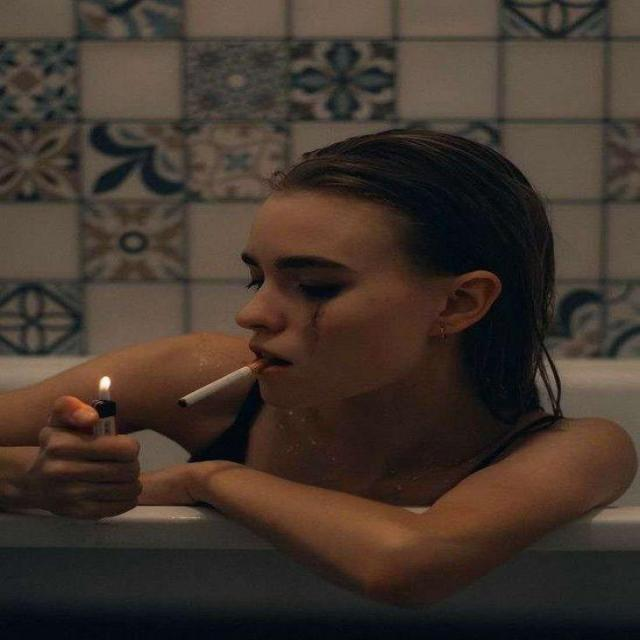cigarette: (143, 354, 297, 418)
